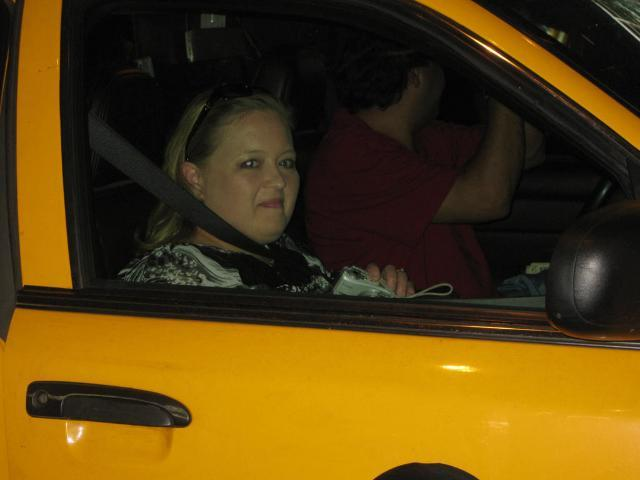SafeDriving: (272, 146, 302, 176), (235, 149, 268, 175)
Seatbelt: (90, 110, 330, 282)
